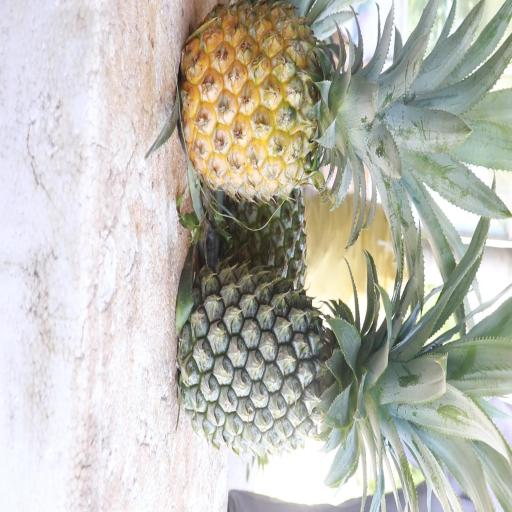Pineapple - v8 v1: (174, 1, 434, 204)
